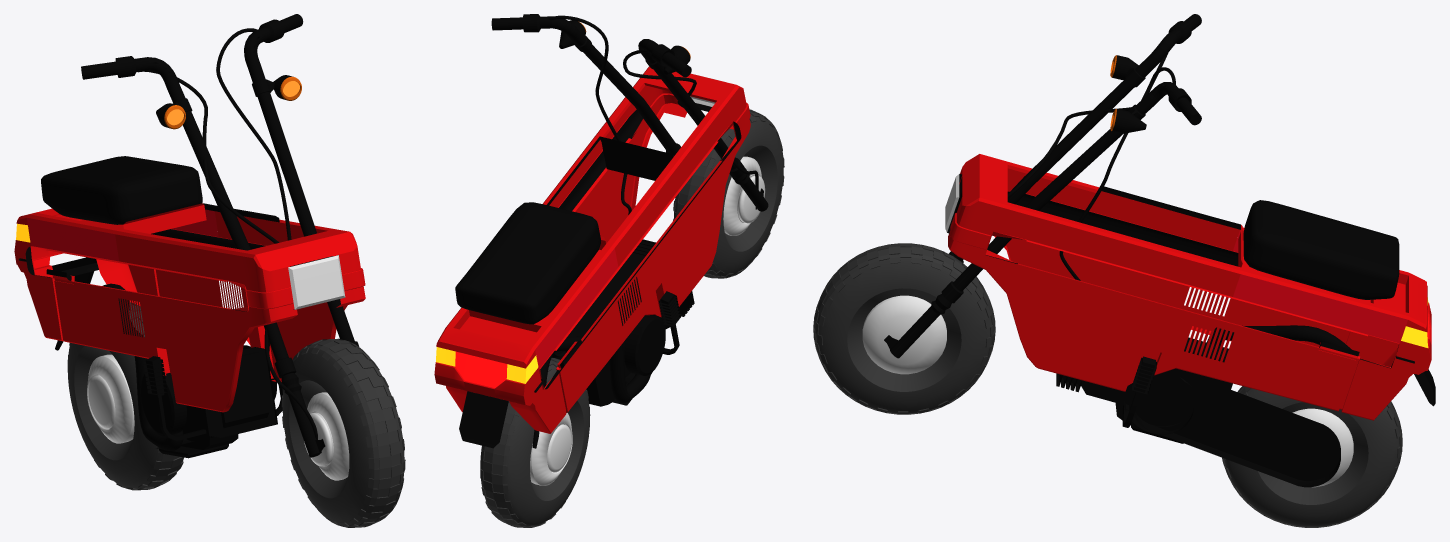
Rendered from low-poly-honda-motocompo-d159e3.glb.
3 views of the same model, side by side, from view 1: azimuth 30°, elevation 25°; view 2: azimuth 150°, elevation 25°; view 3: azimuth 270°, elevation 25° (orthographic). The views are drawn at different scales.
Parts seen in each view (by area): view 1: PropMesh; view 2: PropMesh; view 3: PropMesh.
Part boxes in pixels (x1,y1,x2,y2): PropMesh: (14,14,405,527); PropMesh: (434,14,784,527); PropMesh: (813,14,1435,527).
Bounding box in the file's own units: 0.4642 × 1 × 1.2.
